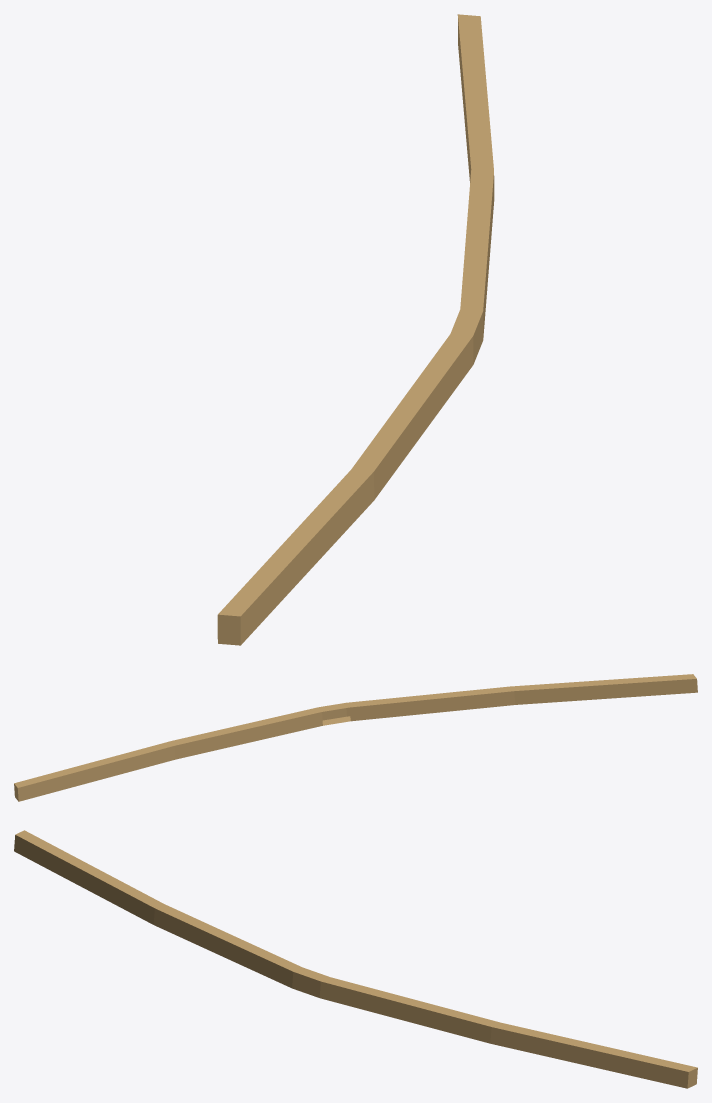
Rendered from unstrung_wooden_longbow.glb.
The picture shows the model from 3 angles, top to bottom: view 1: azimuth 30°, elevation 25°; view 2: azimuth 150°, elevation 25°; view 3: azimuth 270°, elevation 25°; orthographic projection. The views are drawn at different scales.
Visible parts, largest first — view 1: unstrung_wooden_longbow; view 2: unstrung_wooden_longbow; view 3: unstrung_wooden_longbow.
Part boxes in pixels (x1,y1,x2,y2): unstrung_wooden_longbow: [217, 14, 494, 645]; unstrung_wooden_longbow: [14, 674, 697, 801]; unstrung_wooden_longbow: [14, 830, 697, 1088].
Bounding box in the file's own units: 0.5969 × 0.0227 × 0.7201.
